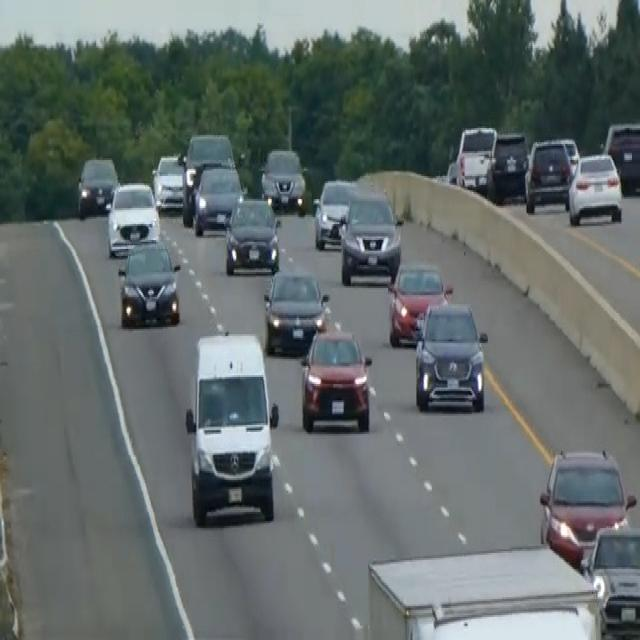car: (365, 542, 603, 638), (538, 444, 636, 566), (413, 298, 488, 412), (299, 324, 372, 434), (580, 521, 639, 638), (338, 188, 403, 284), (116, 236, 181, 329), (262, 266, 330, 354), (386, 260, 452, 346), (180, 130, 236, 224), (223, 194, 280, 274), (567, 149, 623, 226), (106, 180, 160, 256), (192, 160, 244, 235), (524, 137, 571, 213), (311, 176, 357, 249), (486, 130, 529, 202), (260, 146, 306, 213), (454, 123, 496, 192), (76, 153, 118, 217), (603, 119, 639, 192), (151, 151, 185, 212), (557, 135, 580, 176)
minibus: (182, 327, 280, 526)
